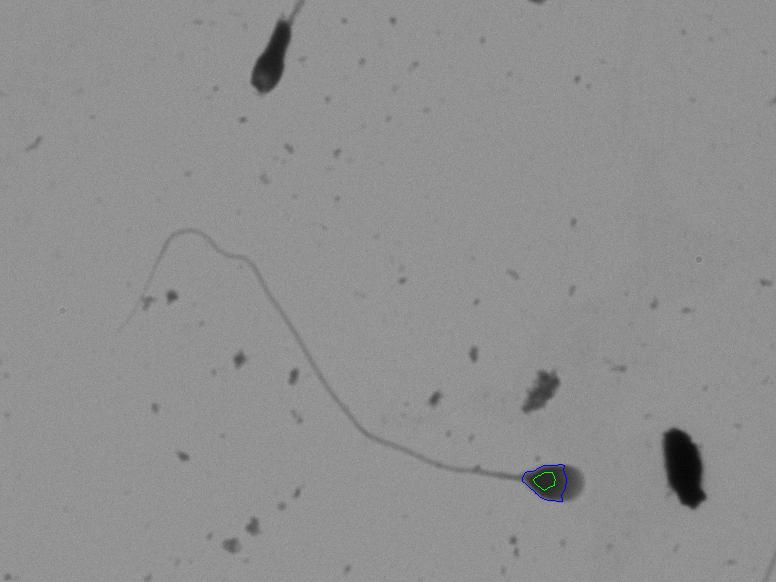Normal: (73, 187, 615, 541)
